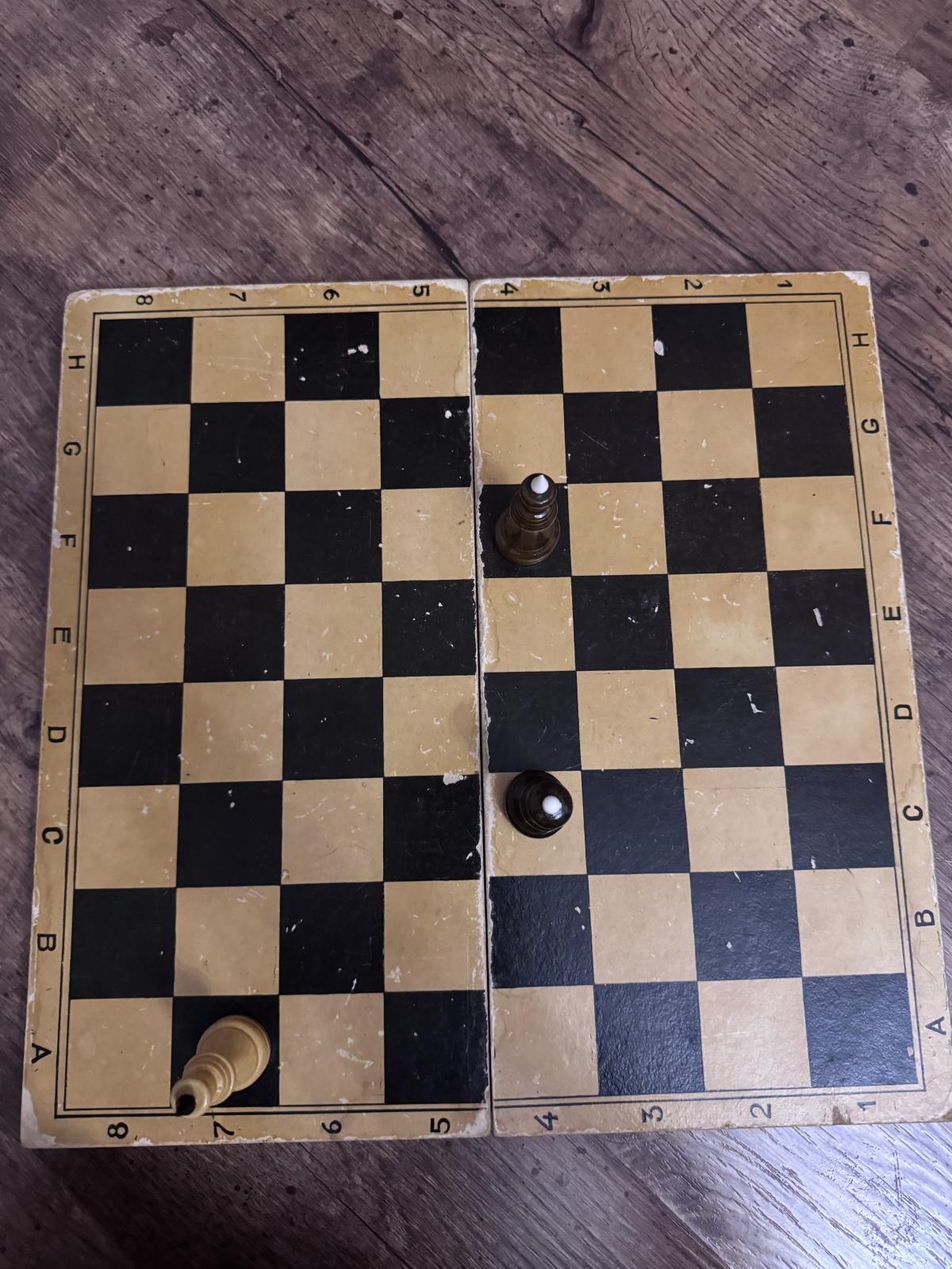Chess-Board: (64, 301, 917, 1110)
